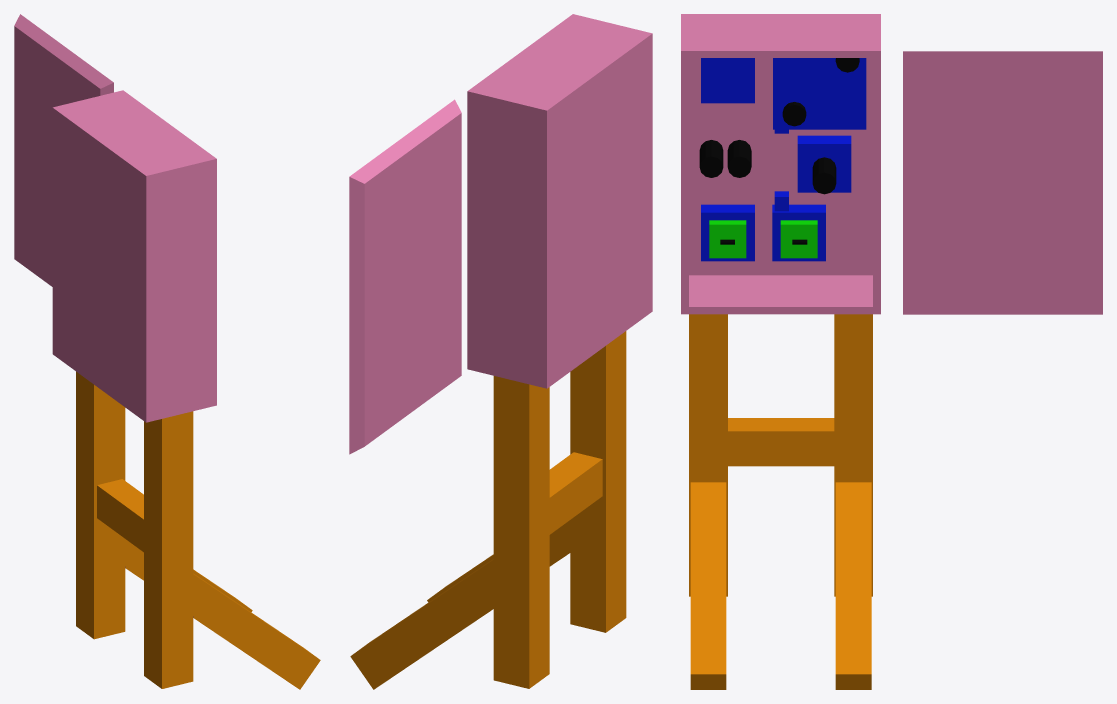
The model's file is Electrical_panel.fbx.
3 views of the same model, side by side, from view 1: azimuth 30°, elevation 25°; view 2: azimuth 150°, elevation 25°; view 3: azimuth 270°, elevation 25° (orthographic). The views are drawn at different scales.
Parts seen in each view (by area): view 1: Electrical_panel, Electrical_panel_door; view 2: Electrical_panel, Electrical_panel_door; view 3: Electrical_panel, Electrical_panel_door.
Boxes of the visible parts, x1,y1,x2,y2 form: Electrical_panel: (52,90,320,689); Electrical_panel_door: (14,14,113,286); Electrical_panel: (350,14,652,689); Electrical_panel_door: (349,99,461,454); Electrical_panel: (681,14,880,689); Electrical_panel_door: (903,51,1102,314).
Size of the model in its own units: 137 by 406 by 261.
